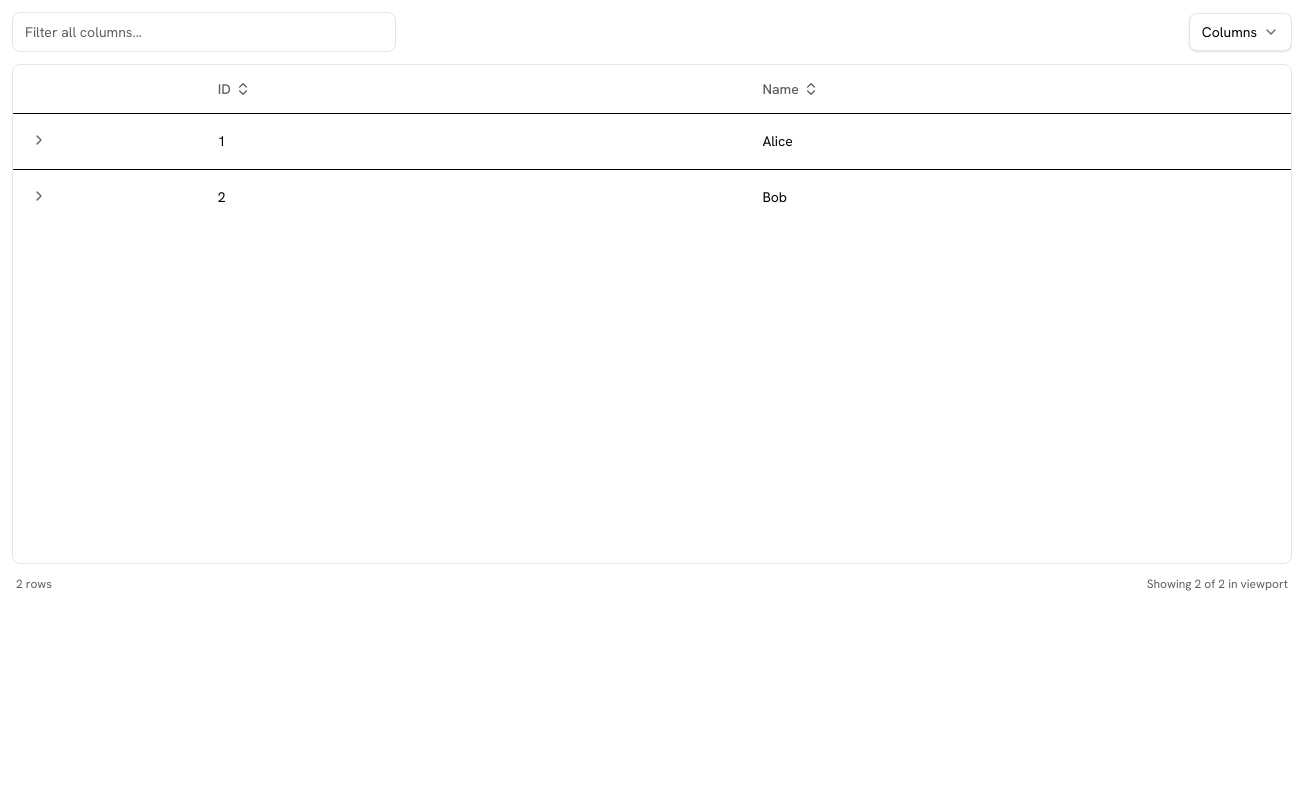
it: DataTable expandable rows (Epic 23) › reveals renderSubRow content on click, and hides it again on a second click
This screenshot has width=1304, height=812.
Expected: the text "Alice detail" is not shown
Click the button named "Expand row" in the row of "Alice": point(39, 140) [29, 130, 49, 150]
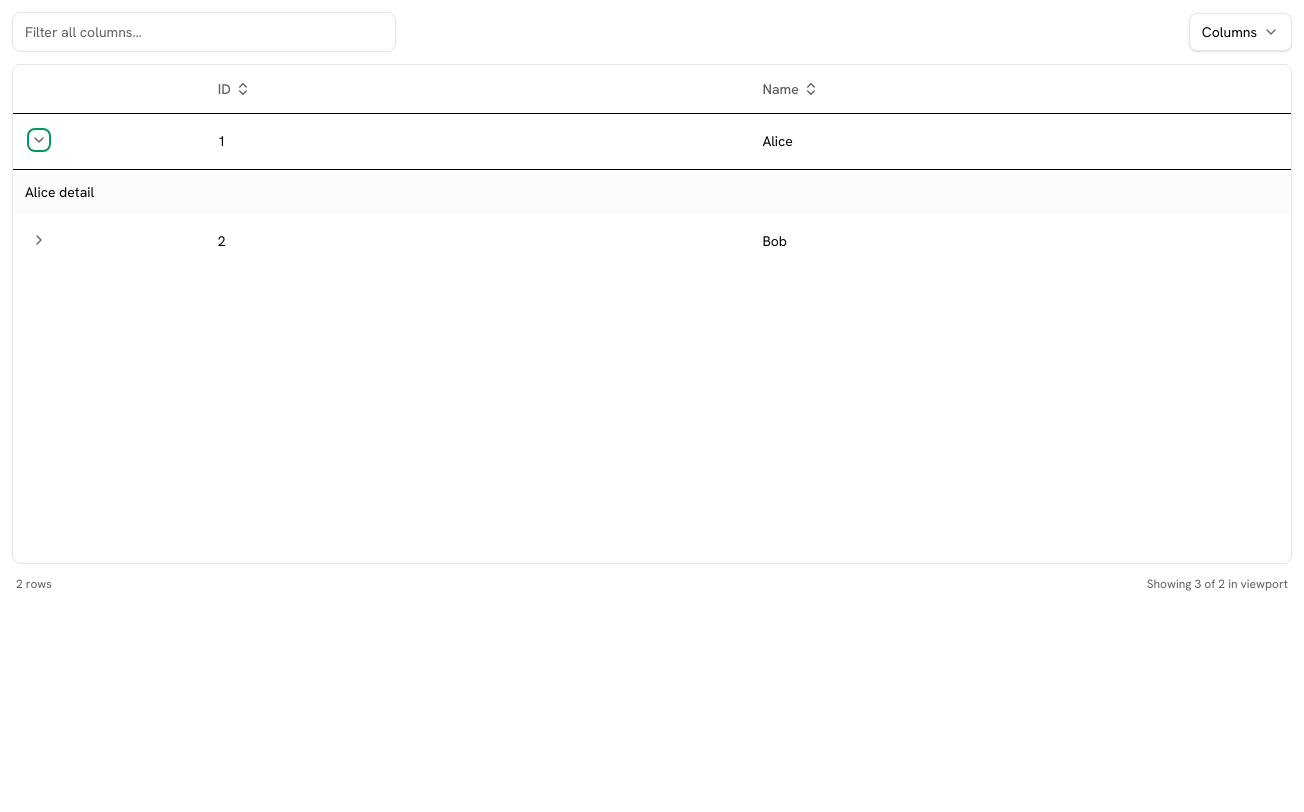
Expected: the text "Alice detail" is shown, [25, 182, 94, 200]
Expected: the button named "Collapse row" is shown
Click the button named "Collapse row": point(39, 140) [29, 130, 49, 150]
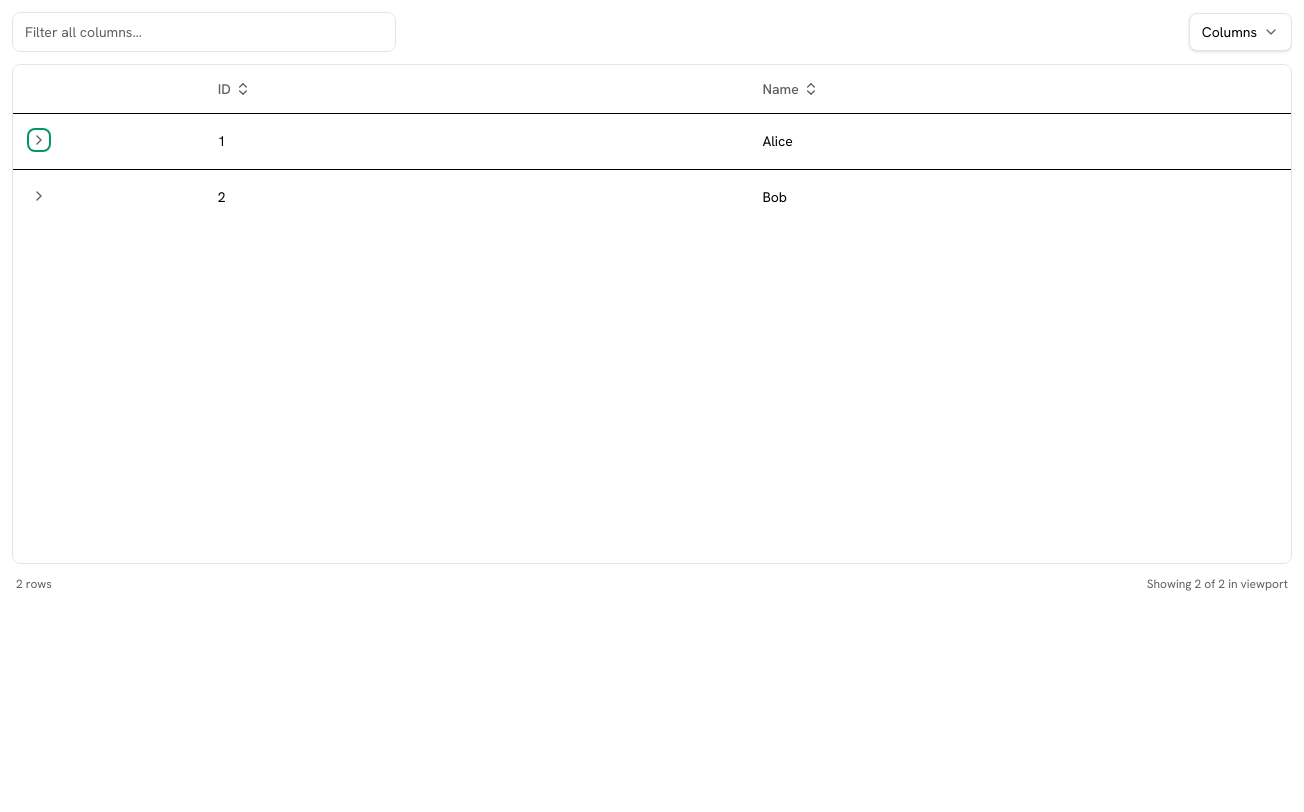
Expected: the text "Alice detail" is gone
